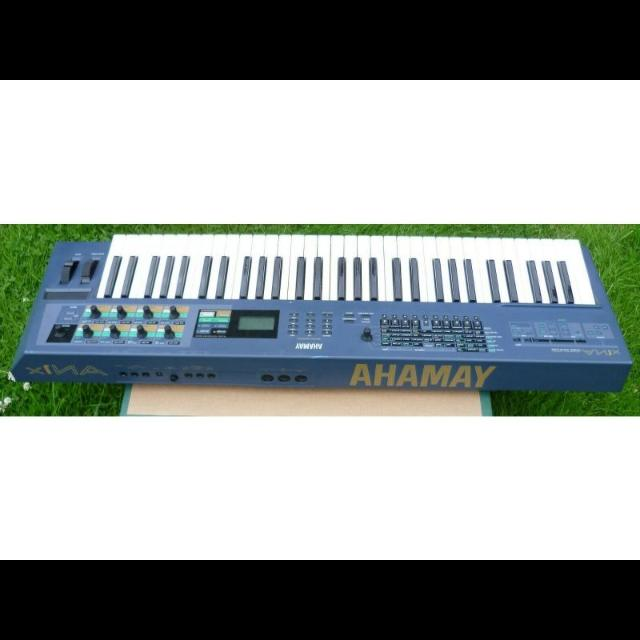Electronic-Keyboard: (19, 230, 631, 400)
